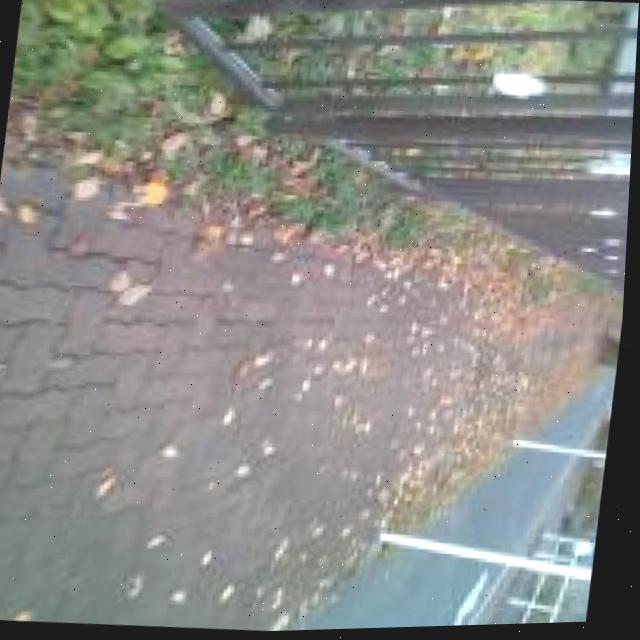Obstacle: (387, 535, 599, 585), (519, 443, 611, 468), (605, 342, 623, 370)
Road: (306, 550, 516, 632), (422, 452, 583, 557), (533, 372, 620, 449)
Sidewalk: (0, 164, 609, 633)
